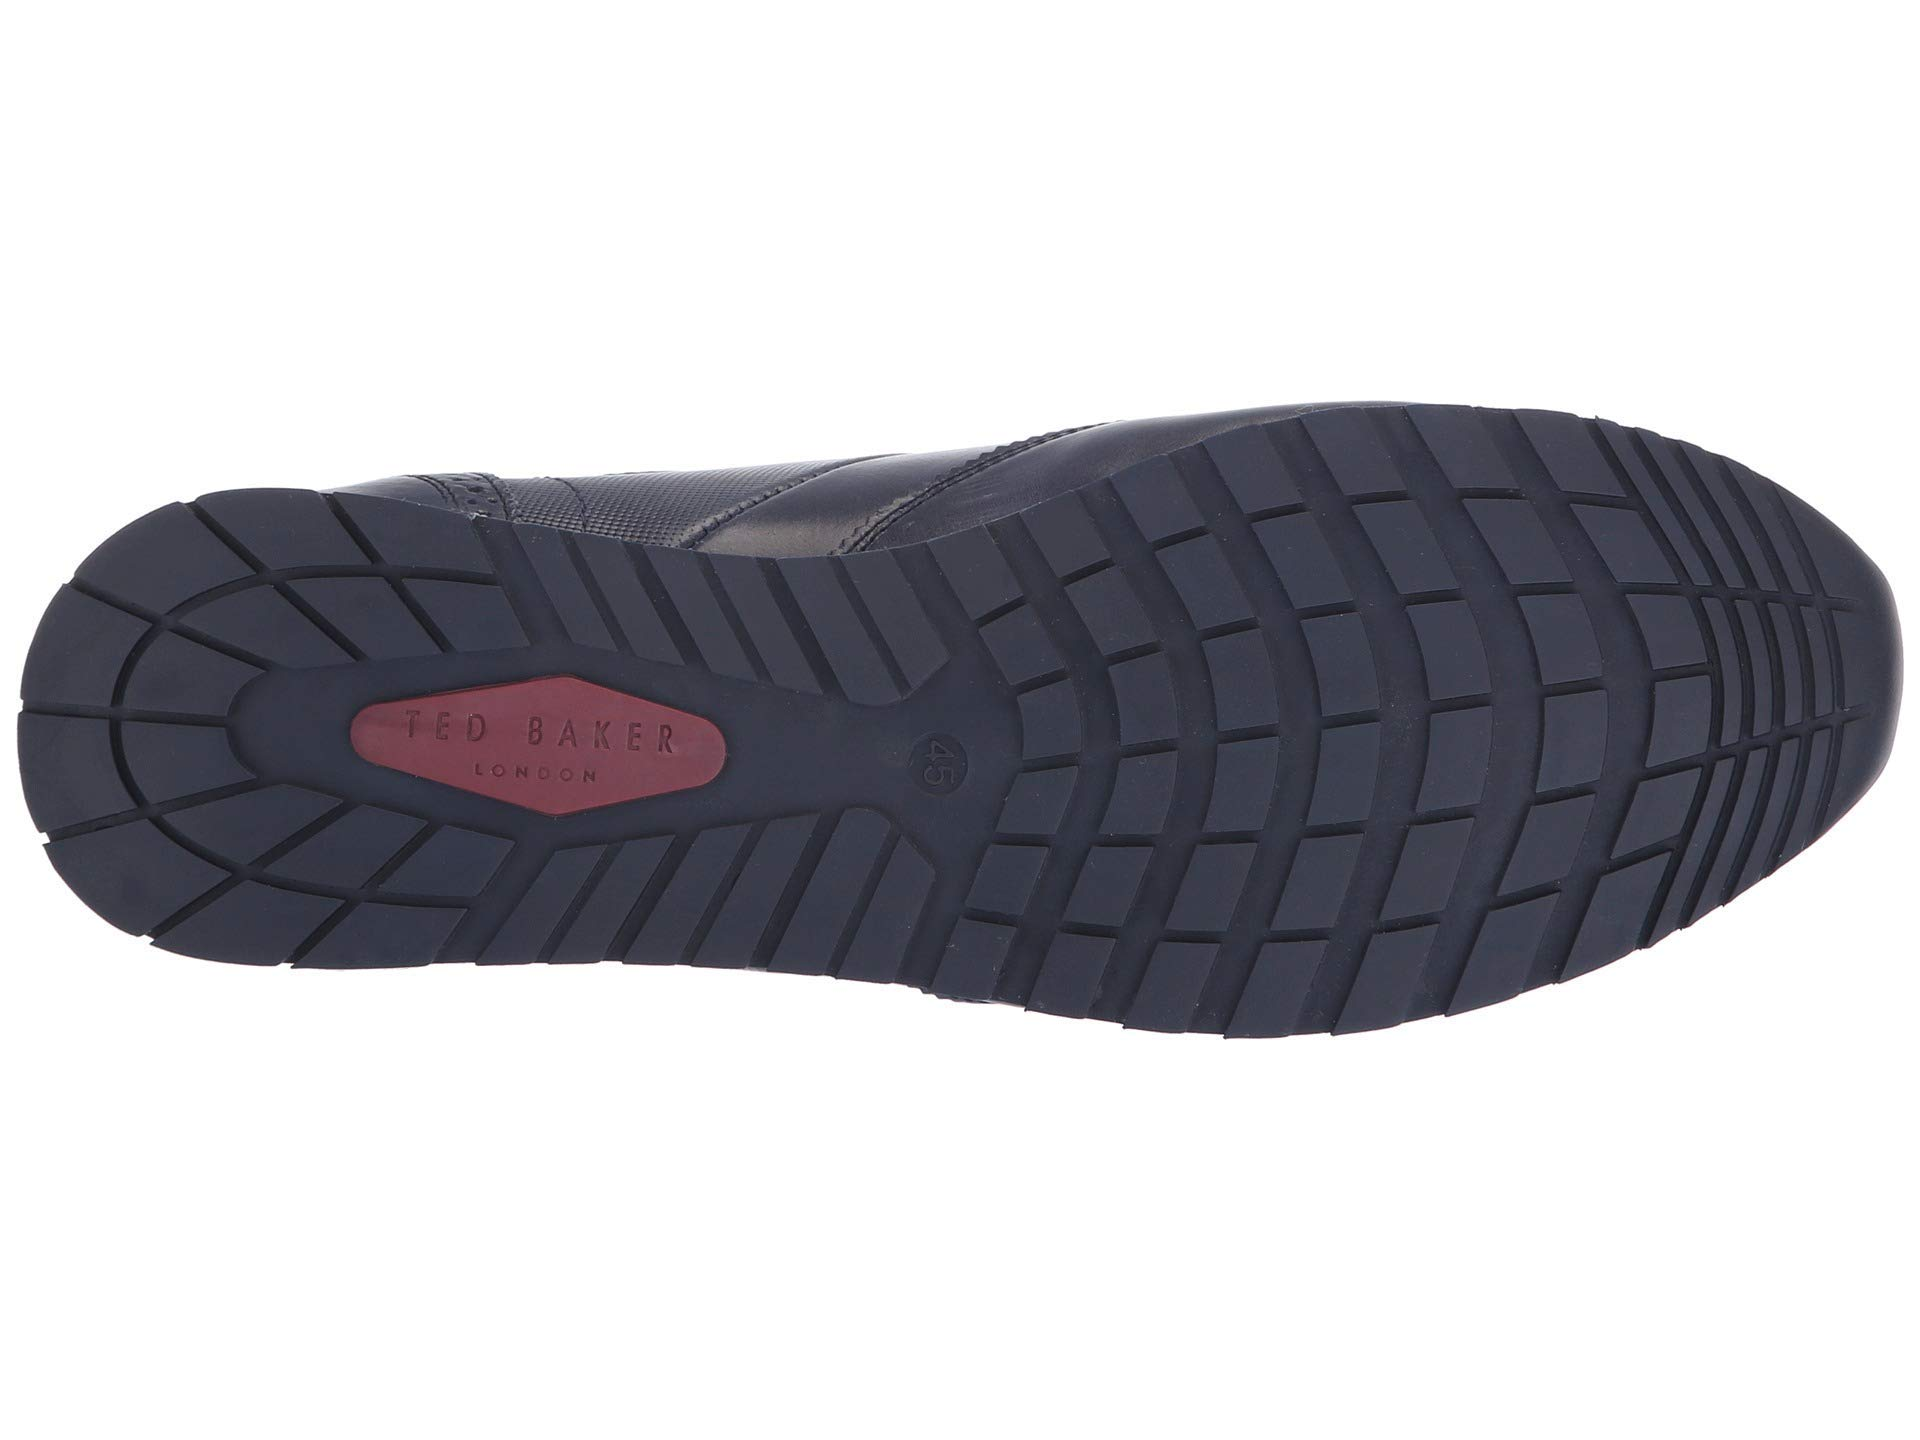quad: (1045, 545, 1500, 974), (1542, 473, 1873, 808), (319, 638, 760, 853), (124, 510, 358, 714)
text: (319, 638, 760, 853)
